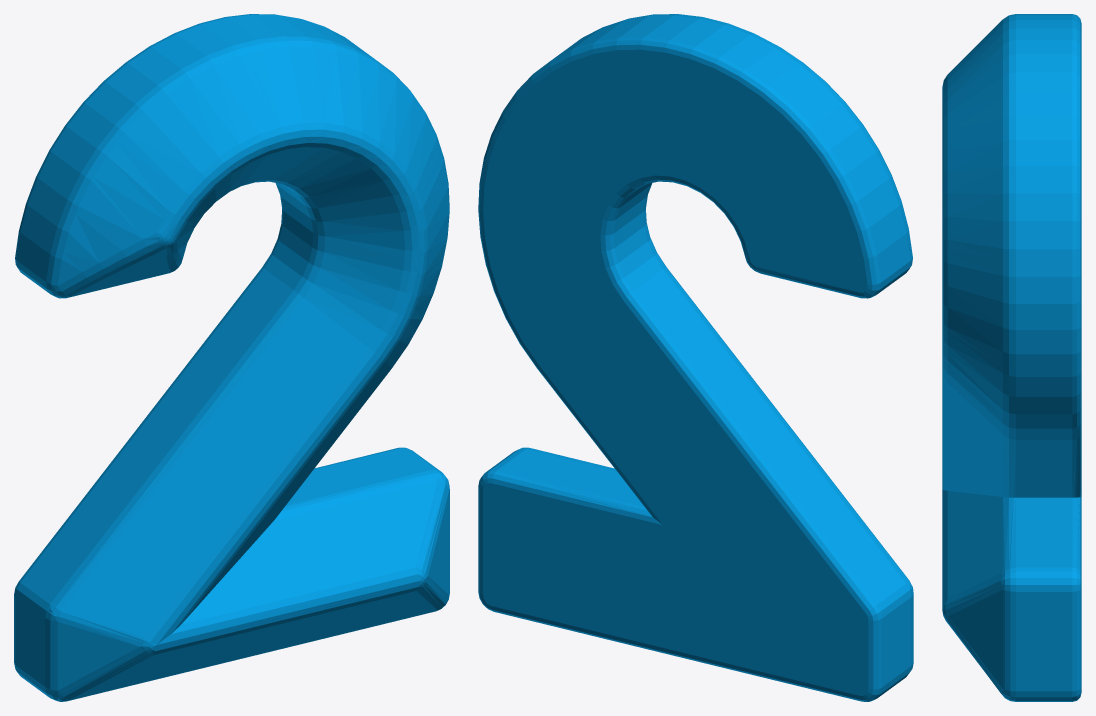
The model's file is two.obj.
3 renders of one model, left to right at view 1: azimuth 30°, elevation 25°; view 2: azimuth 150°, elevation 25°; view 3: azimuth 270°, elevation 25°, orthographic. The views are drawn at different scales.
Visible parts, largest first — view 1: Object.1; view 2: Object.1; view 3: Object.1.
Boxes of the visible parts, left/top/right/bottom form: Object.1: left=14, top=14, right=449, bottom=701; Object.1: left=478, top=14, right=913, bottom=701; Object.1: left=942, top=14, right=1081, bottom=701.
Bounding box in the file's own units: 16.8 × 24.49 × 5.32.
